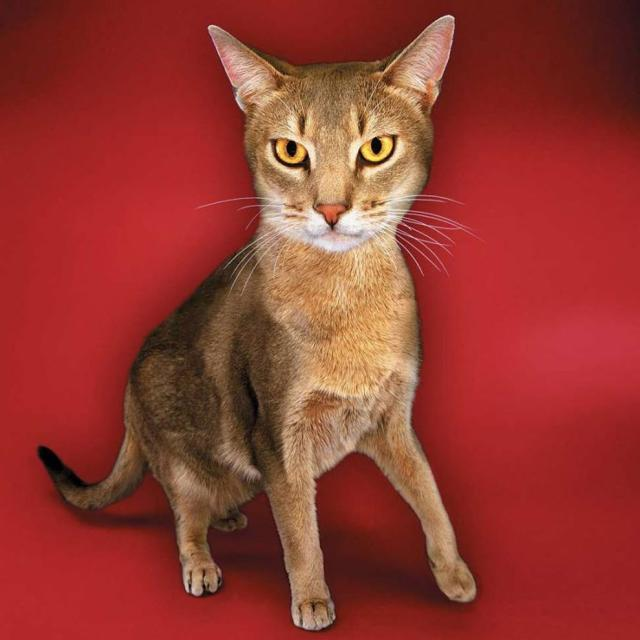Abyssinian: (200, 12, 479, 253)
